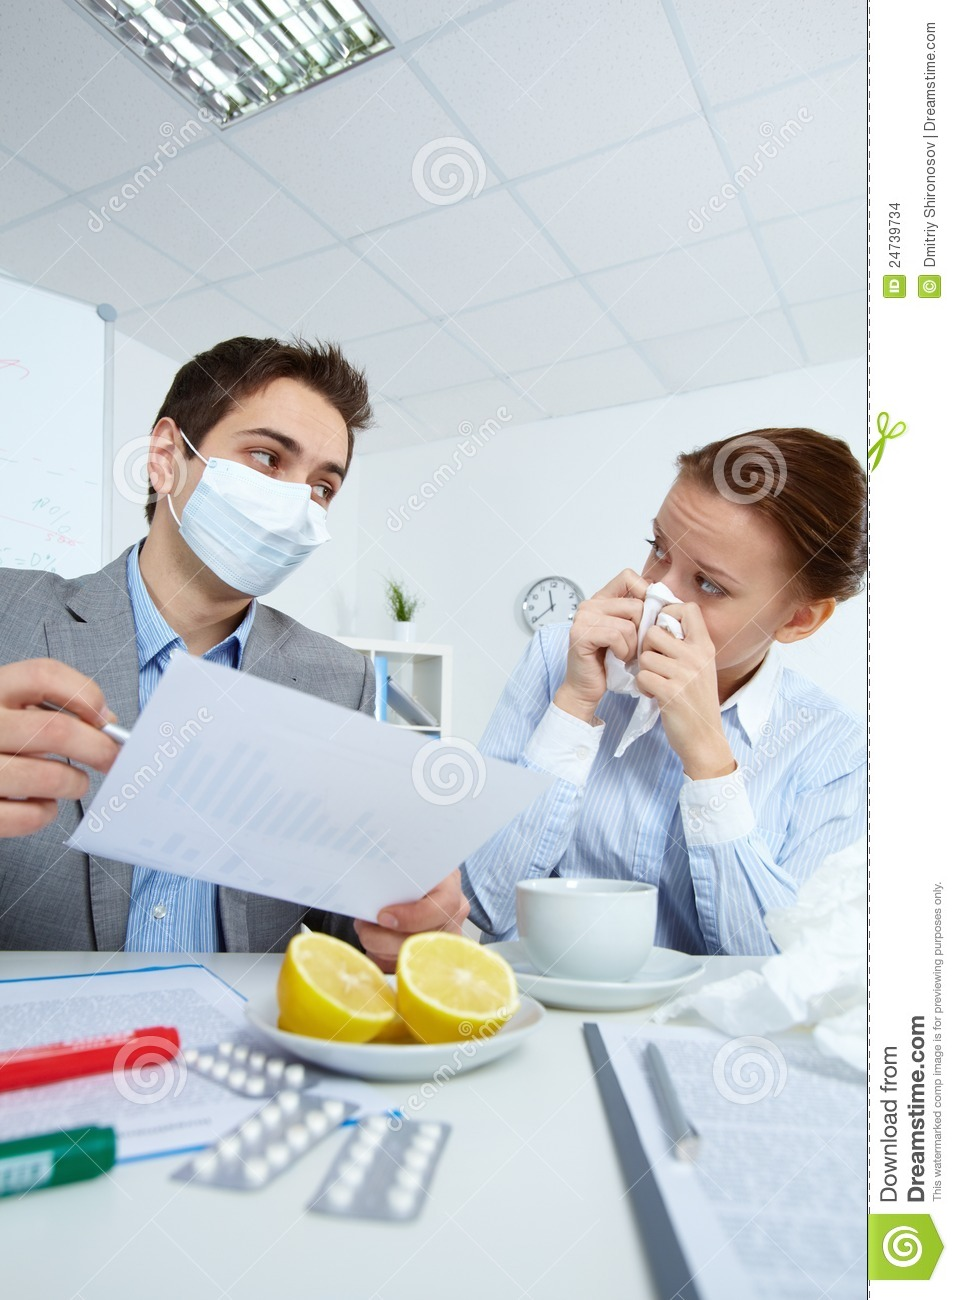mask: (178, 463, 328, 604)
